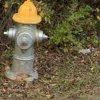a fire hydrant: (3, 0, 48, 84)
